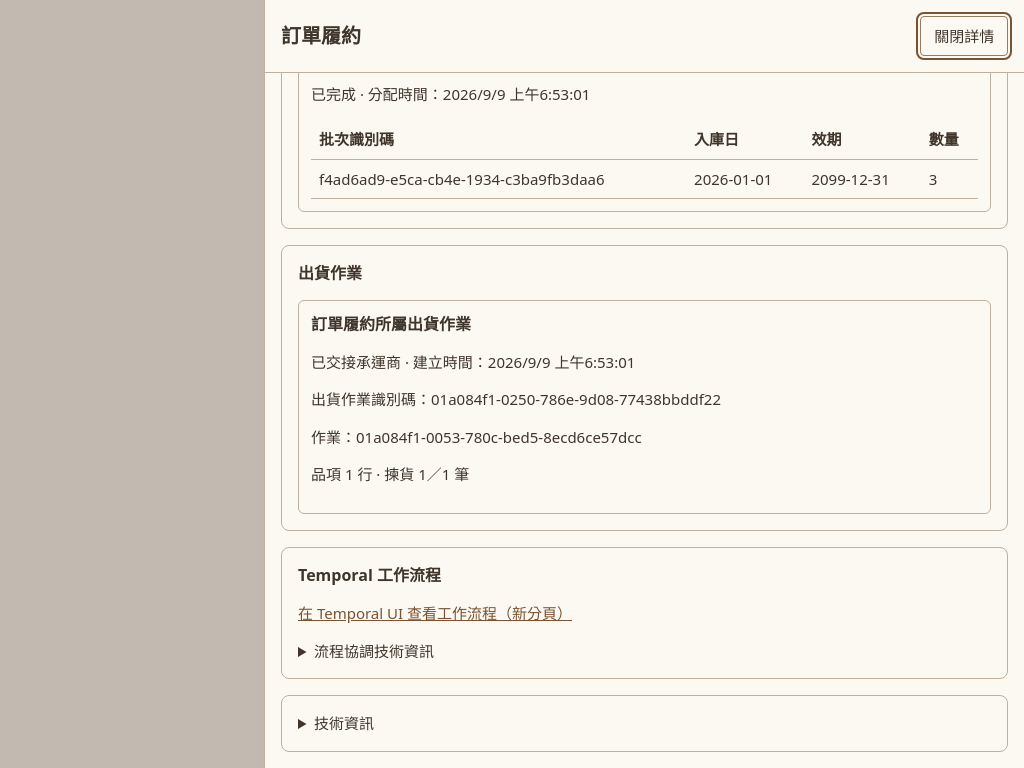
Test: keeps the same business status when Temporal query is unavailable, with diagnostics collapsed
(page scrolled)
Check: the text "工作流程查詢暫時不可用；" is not shown
Click the heading "流程協調技術資訊": (374, 651) [314,641,434,661]
(page scrolled)
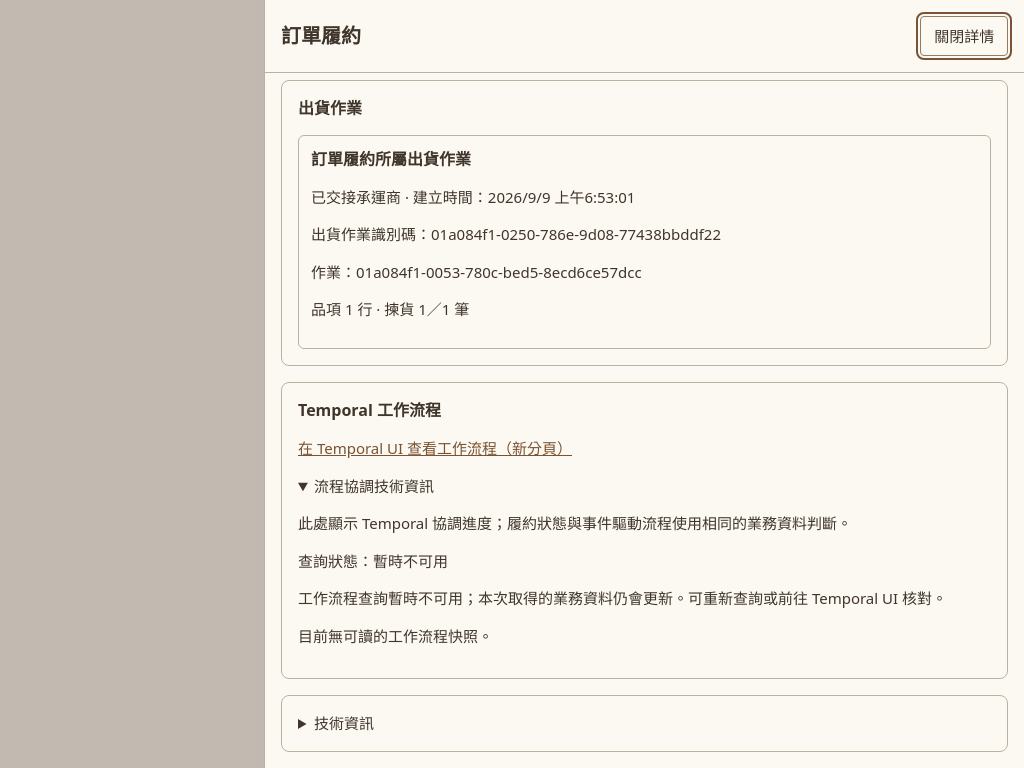
Check: the text "工作流程查詢暫時不可用；本次取得的業務資料仍會更新。可重新查詢或前往 Temporal UI 核對。" is shown, box [298,587,991,610]
